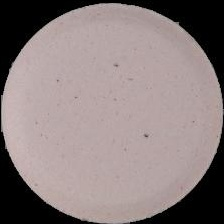63629-3859: (0, 0, 224, 224)
